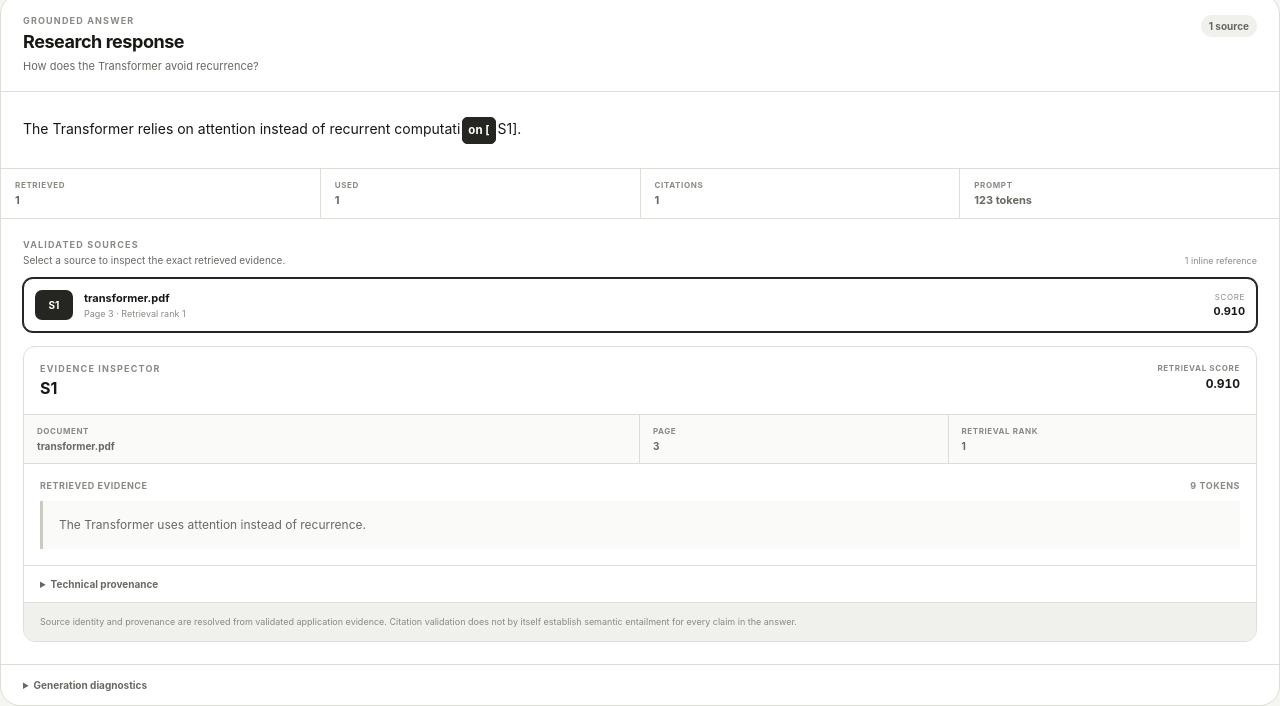
Test: CitedAnswer › renders generation diagnostics
(page scrolled)
Click the heading "Generation diagnostics" at (90, 685), box x1=34 y1=679 x2=147 y2=691
(page scrolled)
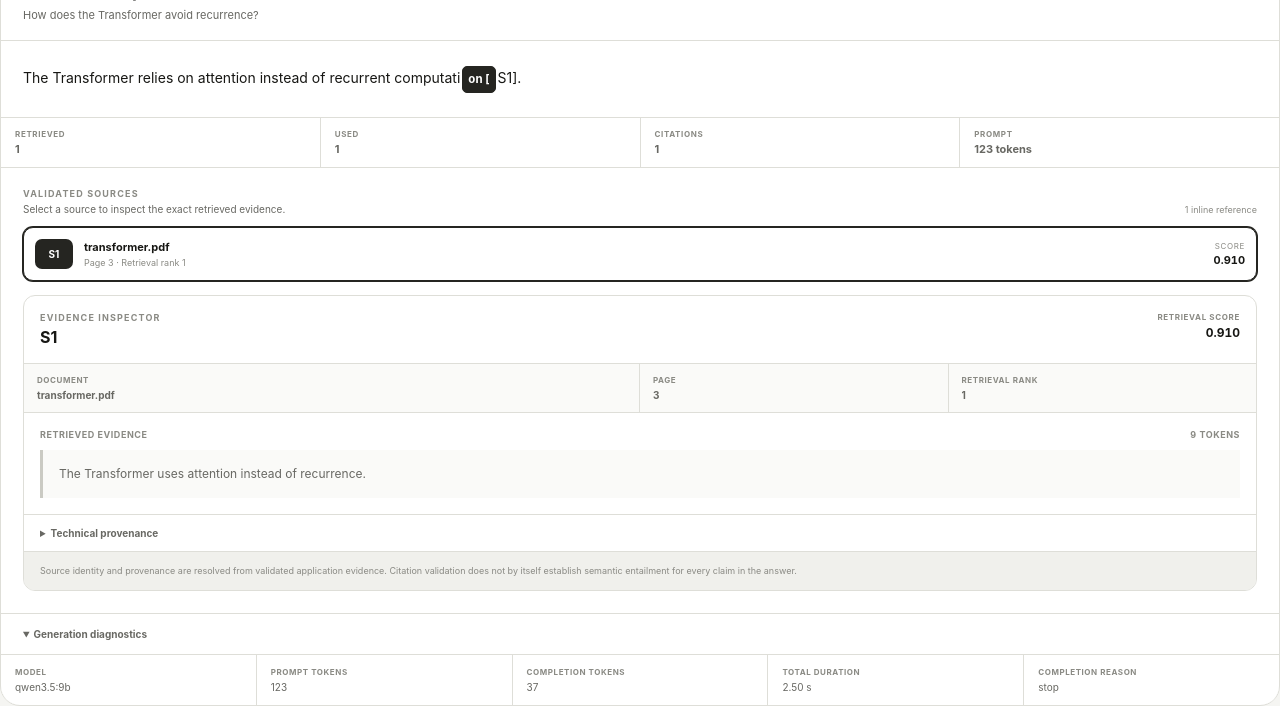
Now the text "qwen3.5:9b" is shown, box x1=15 y1=681 x2=71 y2=693
Now the text "37" is shown, box x1=527 y1=681 x2=538 y2=693
Now the text "2.50 s" is shown, box x1=782 y1=681 x2=812 y2=693
